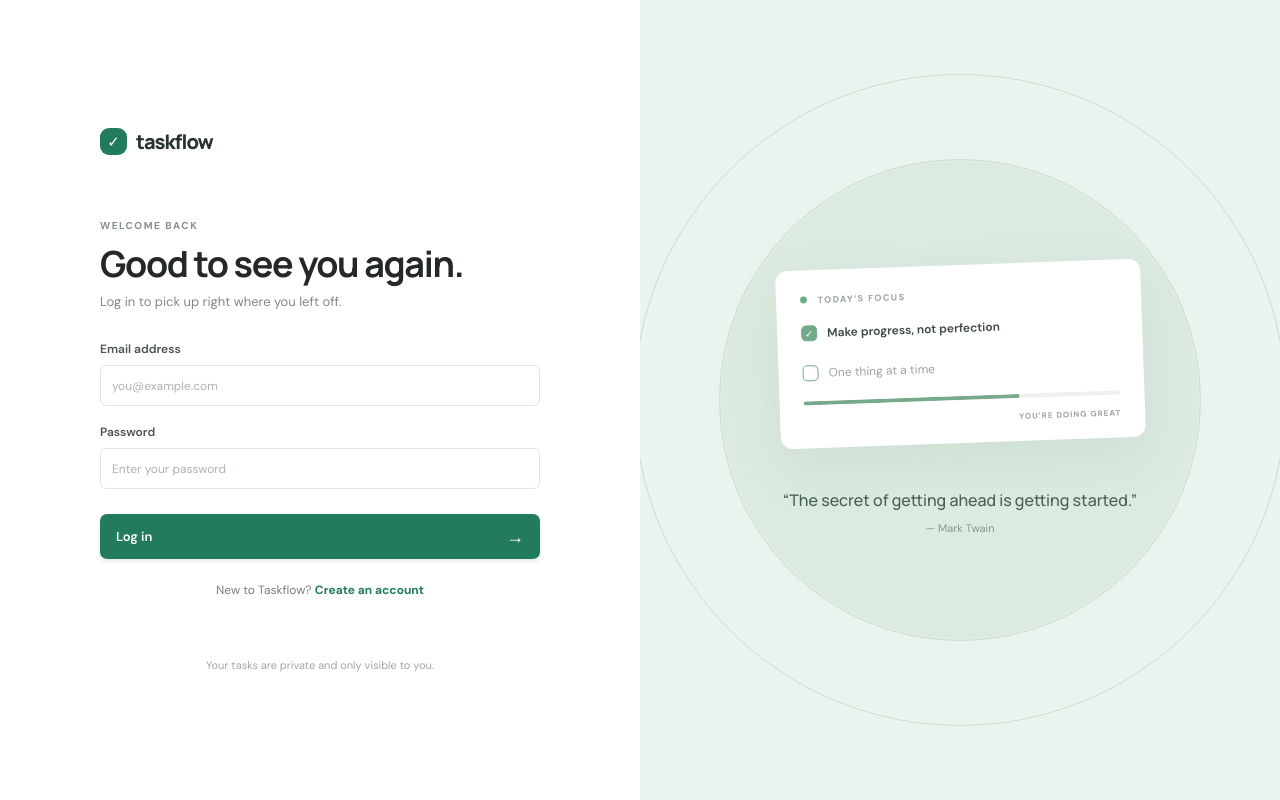
Test case: Taskflow forms › shows field errors and does not submit invalid login data
This screenshot has width=1280, height=800.
Click the button "Log in →" at (134, 537), box top-left (100, 514), bottom-right (540, 560)
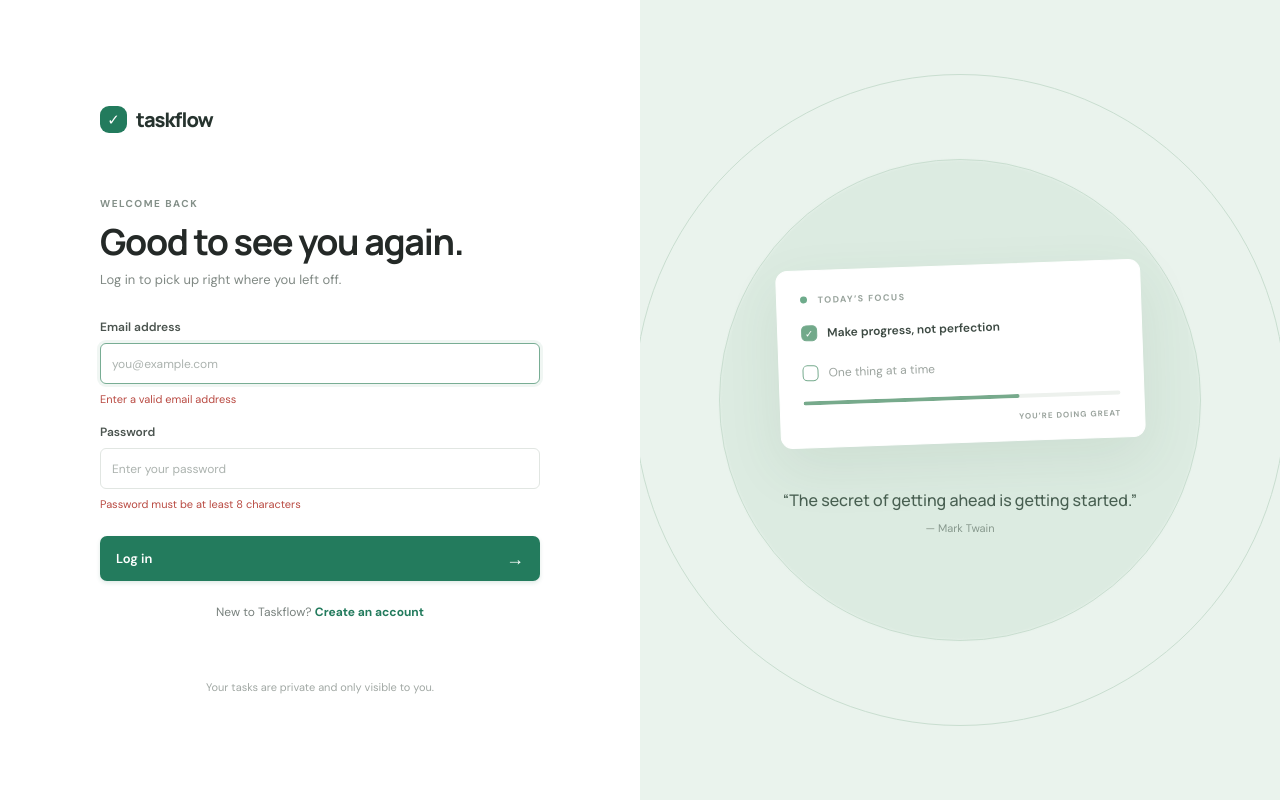
expect the text "Password must be at least 8 characters" is shown: met, box top-left (100, 498), bottom-right (301, 512)
